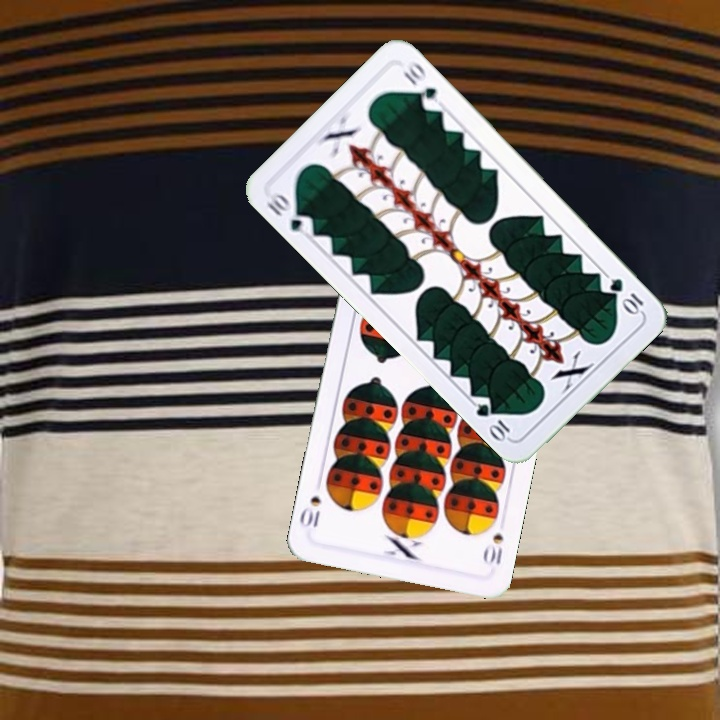G10: (263, 189, 317, 239), (605, 274, 646, 317)
S10: (479, 529, 506, 568)
